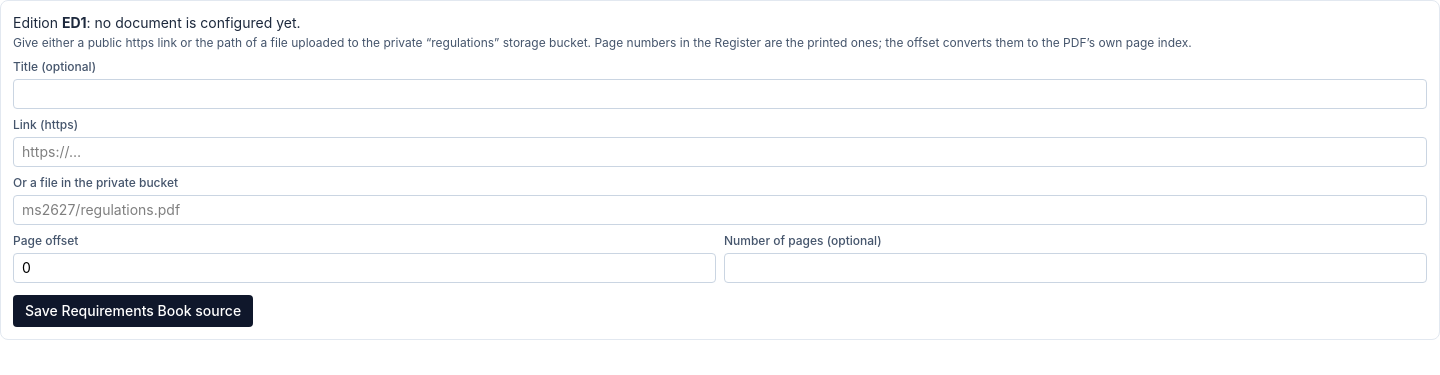
Test: configuring the Requirements Book › refuses the link https://u:p@example.org/a.pdf without asking the database
Type "https://u:p@example.org/a.pdf" into the field labelled "Link (https)".
click(720, 152); type("https://u:p@example.org/a.pdf")  # box [13,137,1427,167]
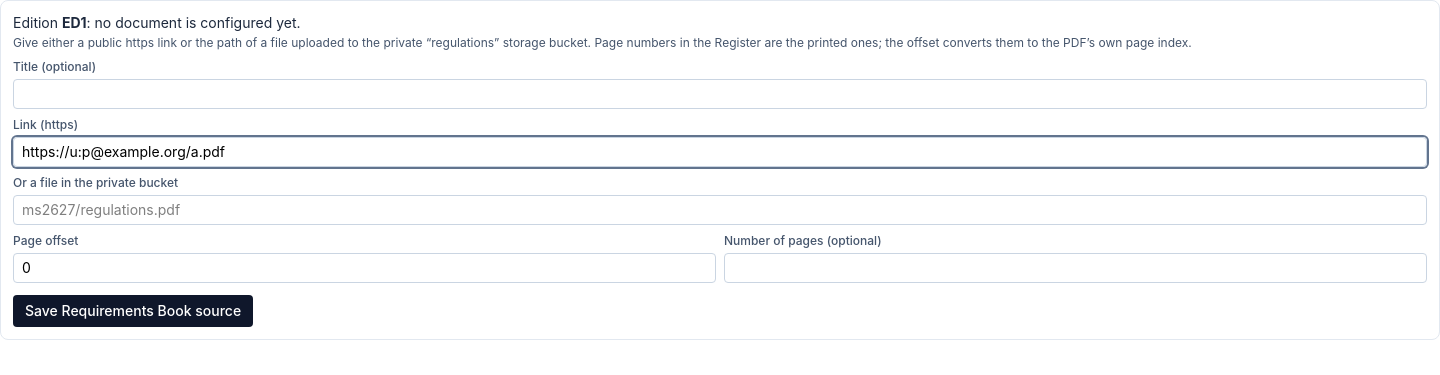
Click the button "Save Requirements Book source".
click(133, 311)  # box [13,295,253,327]
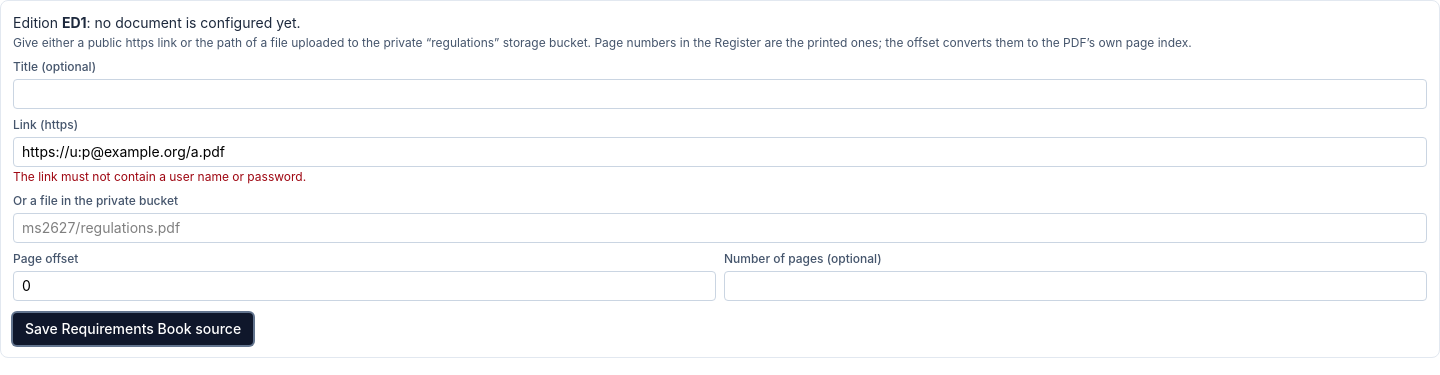
Check: the message shows "user name or password", box [13,169,306,184]
